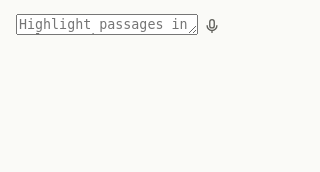
a phrase delivered after the message was sent is ignored
Later steps or results of the test are not shown.
Click the button named "Dictate": (212, 26) [198,12,226,40]
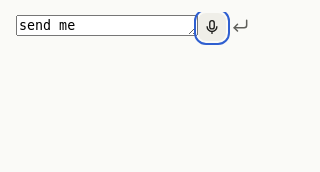
Press Enter
Click the text box named "Message": (107, 26) [16,15,198,36]
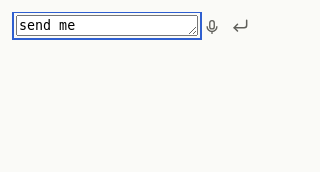
Press Enter
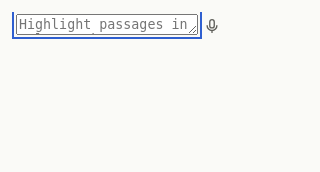
expect the text box named "Message" is empty: met, box [16,14,198,35]
